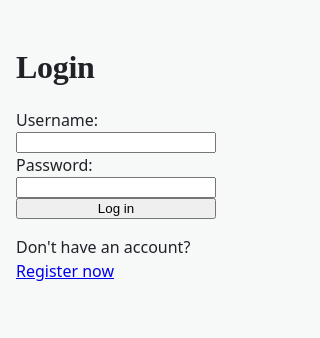
Test case: LoginPage › shows an error and does not navigate on failed login
Click the button "Log in": (116, 209) [16, 198, 216, 219]
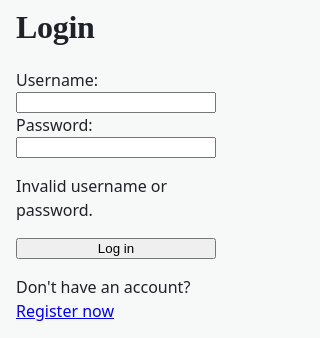
Now the text "Invalid username or password." is shown, box [16, 175, 167, 221]
